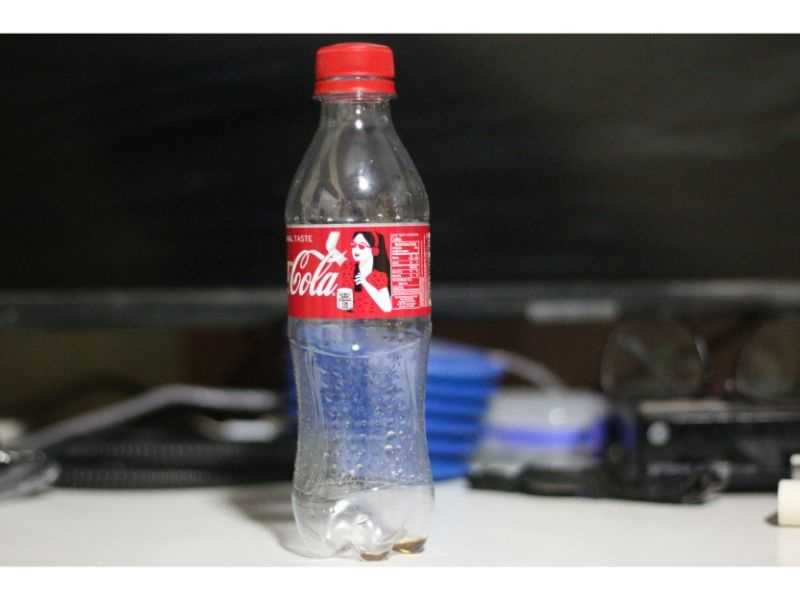PET #1: (283, 43, 437, 565)
